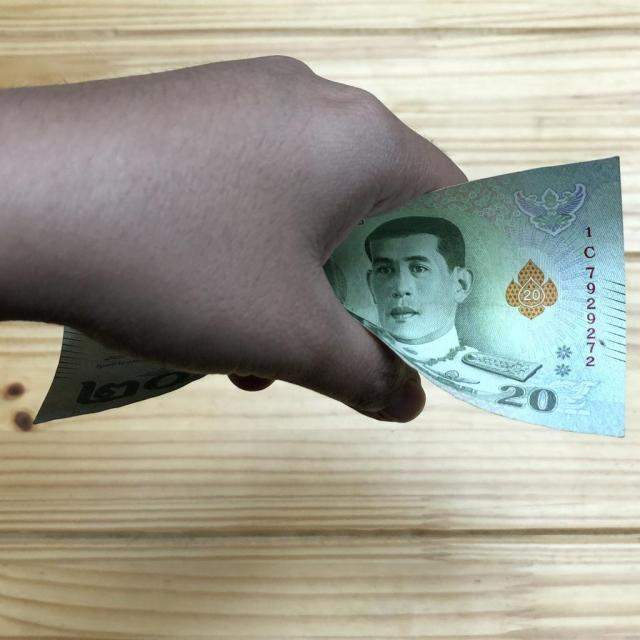THAI20: (324, 158, 625, 436), (33, 328, 197, 423)
